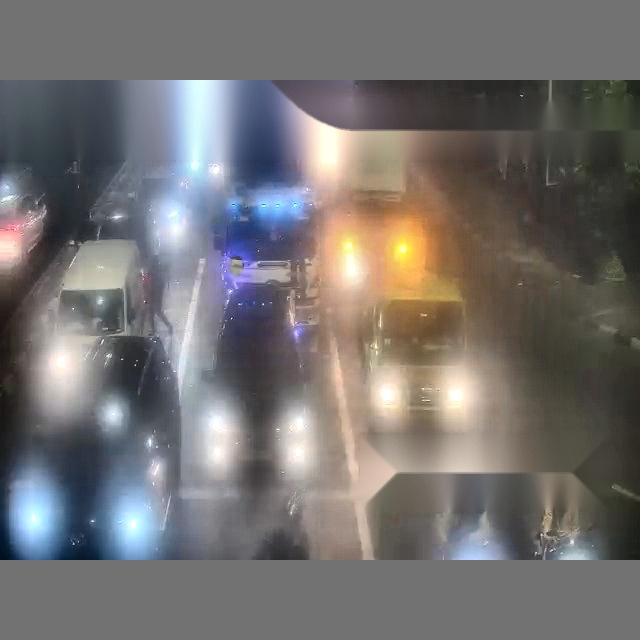Mobil: (95, 334, 176, 559), (0, 196, 48, 276)
